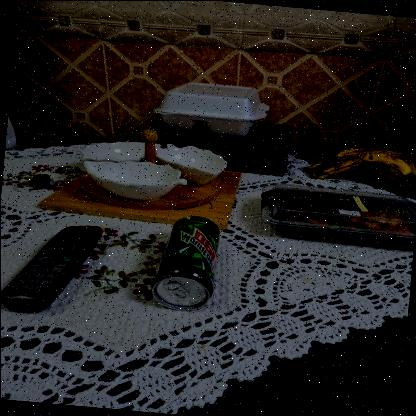Can: (152, 216, 220, 310)
